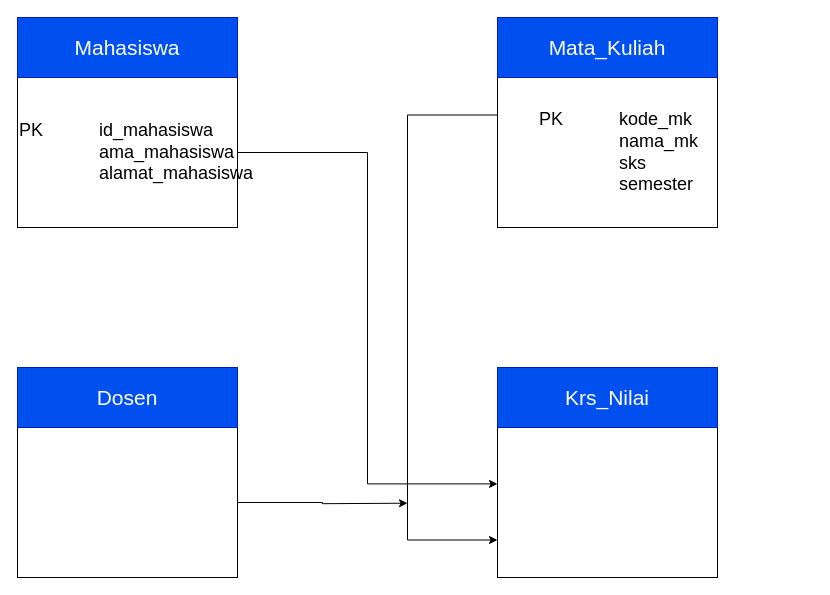
Image size: 830x595. Some labels were removed from this diagram. Here are the shapes that lost their labels. From the top down, the centre of each, then its label:
pixel 127 502: PK id_dosen nama_dosen
pixel 607 502: PK, FK id_mahasiswa PK, FK kode_mk nilai ruang
